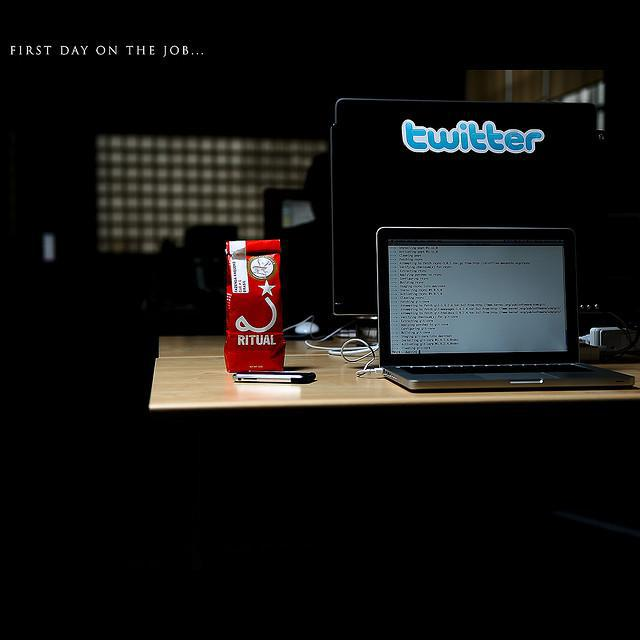tv: (319, 81, 621, 333), (357, 218, 581, 371)
